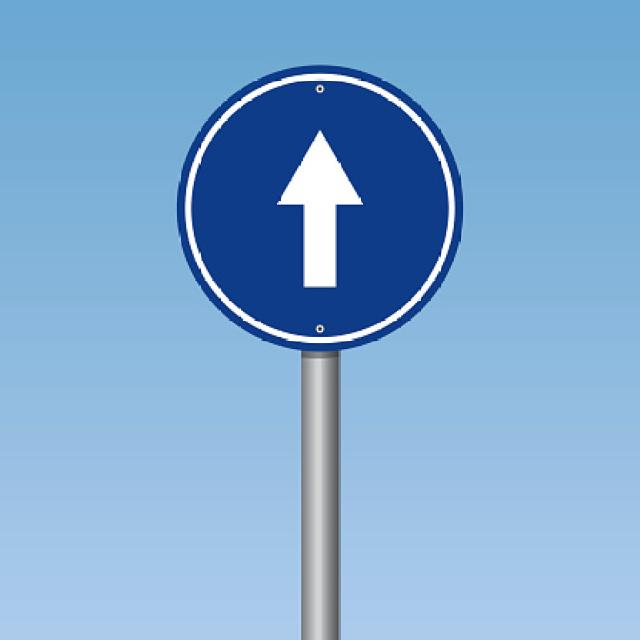STRAIGHT: (178, 66, 462, 348)
